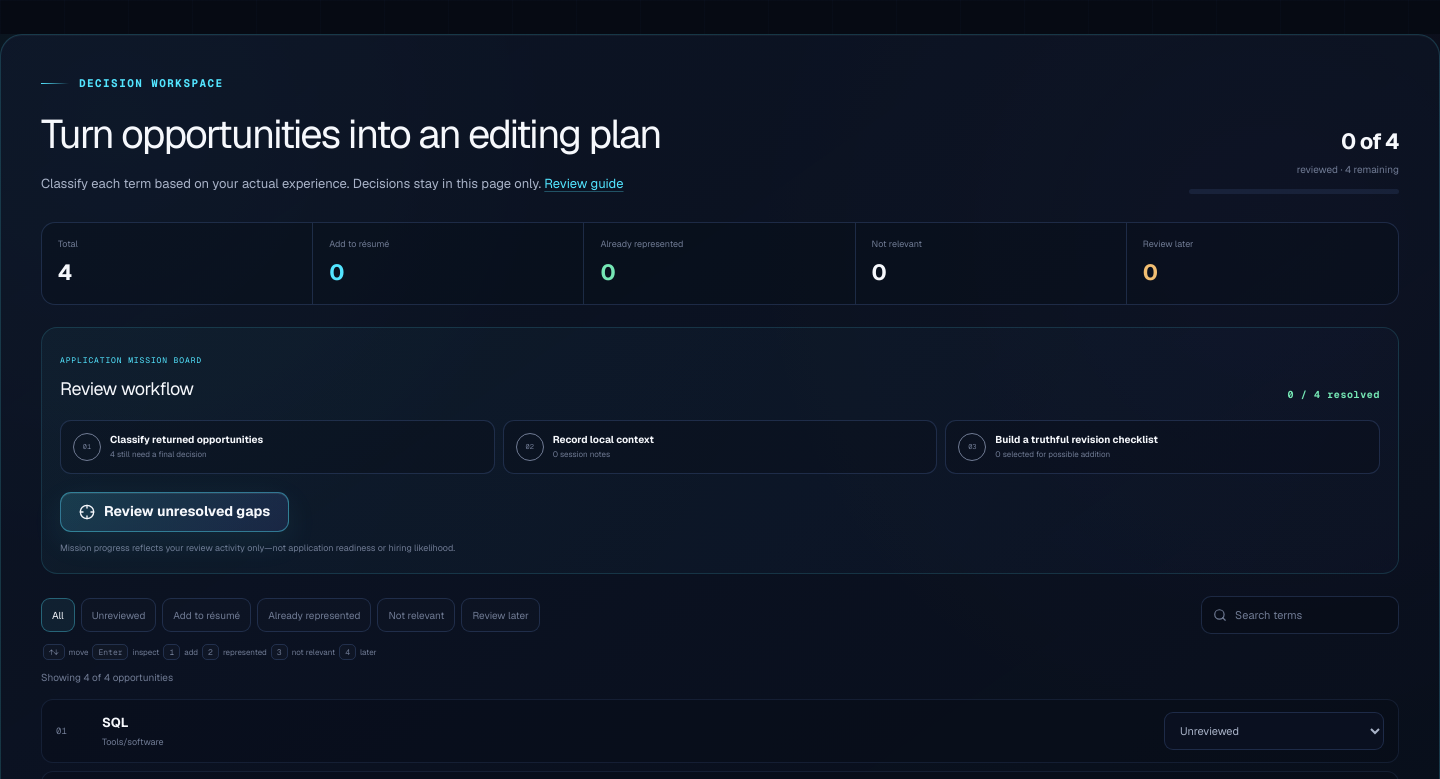
ReviewWorkspace › filters and searches without changing engine order
The width and height of the screenshot is (1440, 779).
Select "Add to résumé" in the dropdown named "Review status for SQL" in the row of "SQL": (1274, 731) [1164,712,1384,750]
(page scrolled)
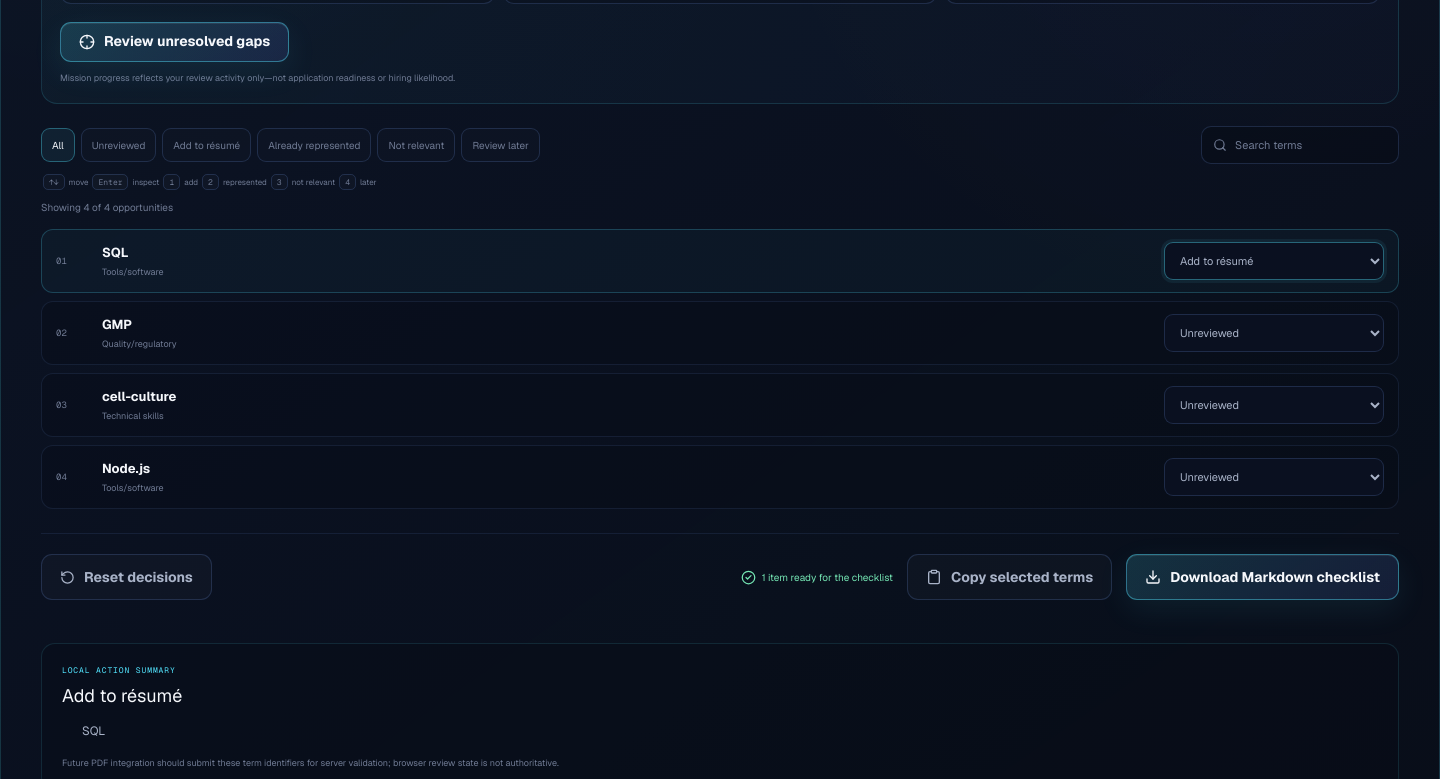
Select "Add to résumé" in the dropdown named "Review status for cell-culture" in the row of "cell-culture": (1274, 405) [1164,386,1384,424]
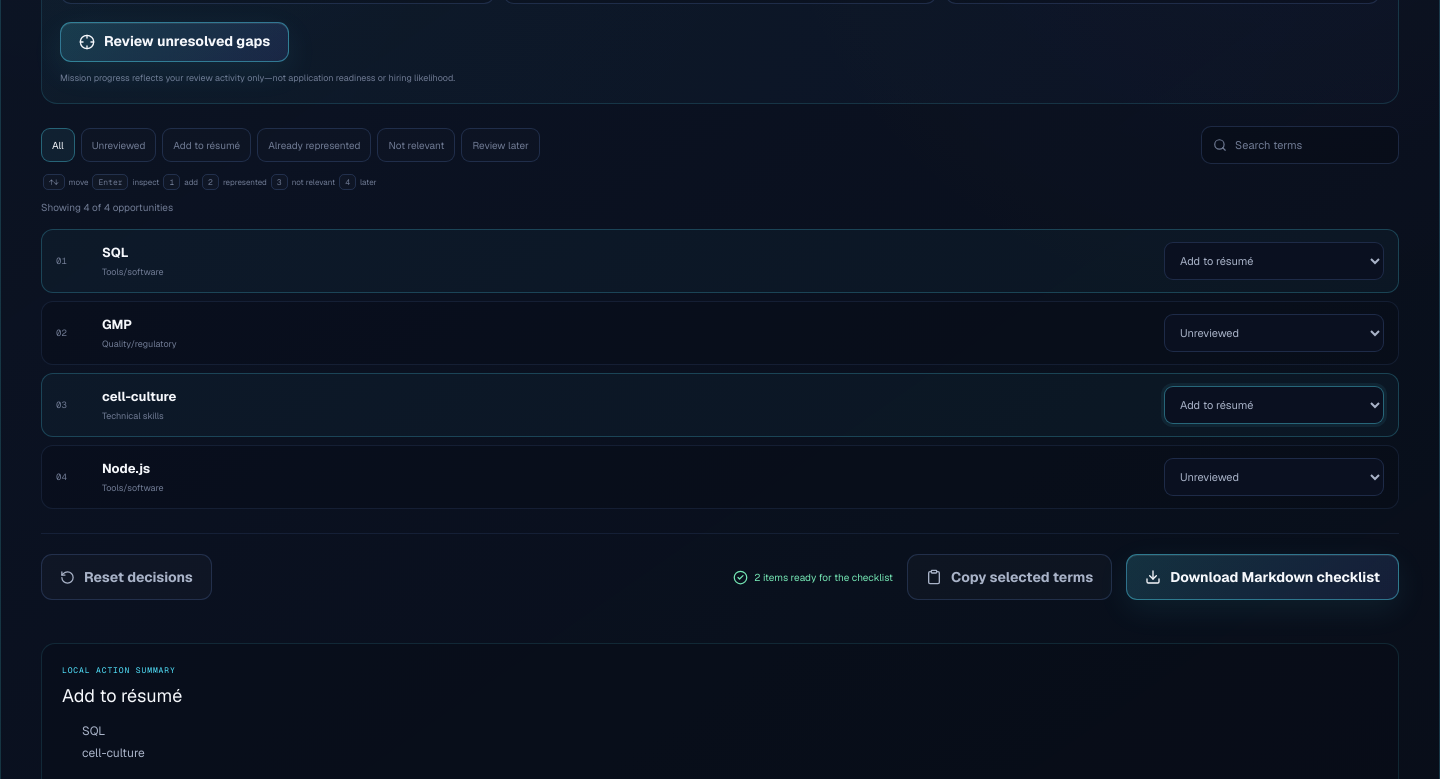
Click the radio button labelled "Add to résumé": (207, 145) [162,128,251,162]
(page scrolled)
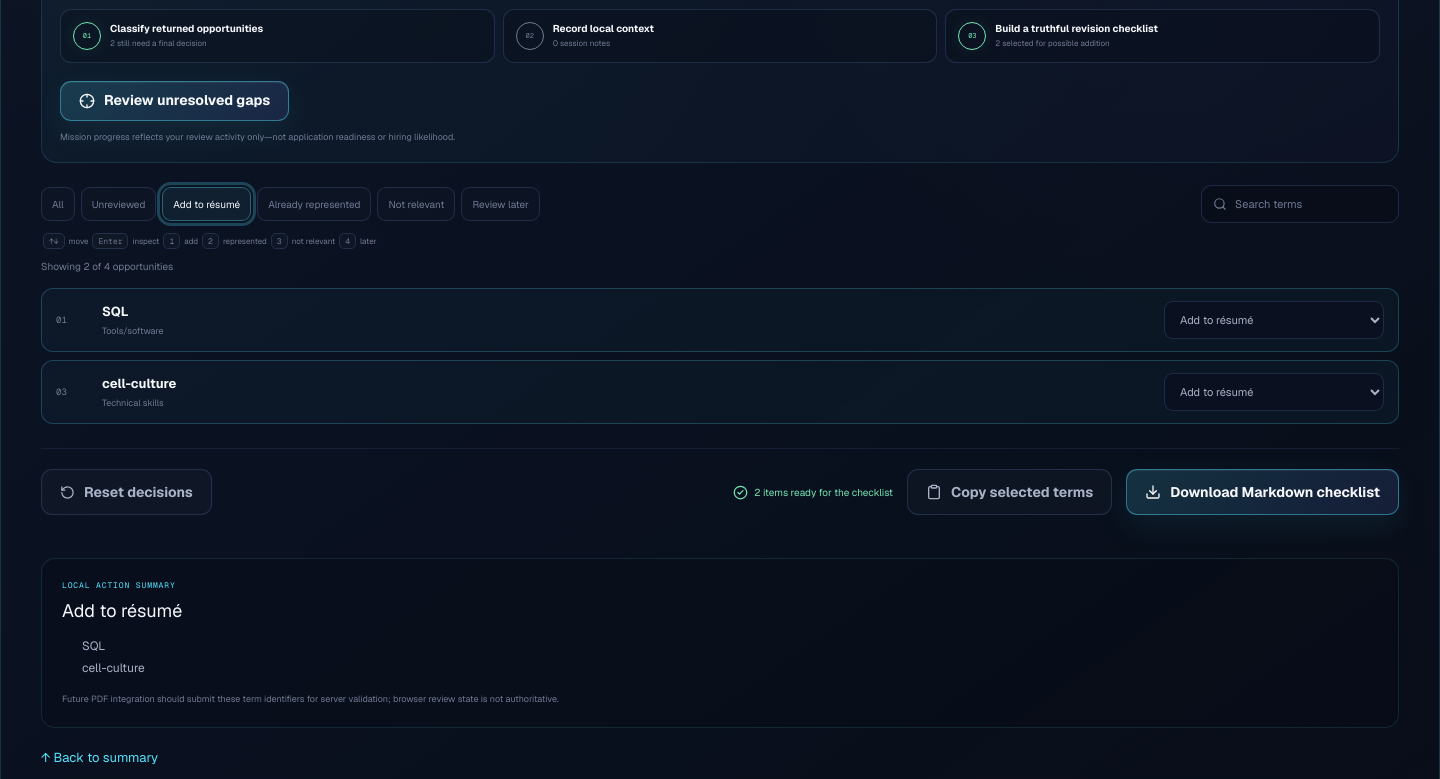
Expected: the element showing "01 SQL Tools/software" is shown, [41,288,1399,352]
Expected: the element showing "03 cell-culture Technical skills" is shown, [41,360,1399,424]
In the field with placeholder "Search terms": (1311, 204) [1235,196,1387,212], type "cell"
(page scrolled)
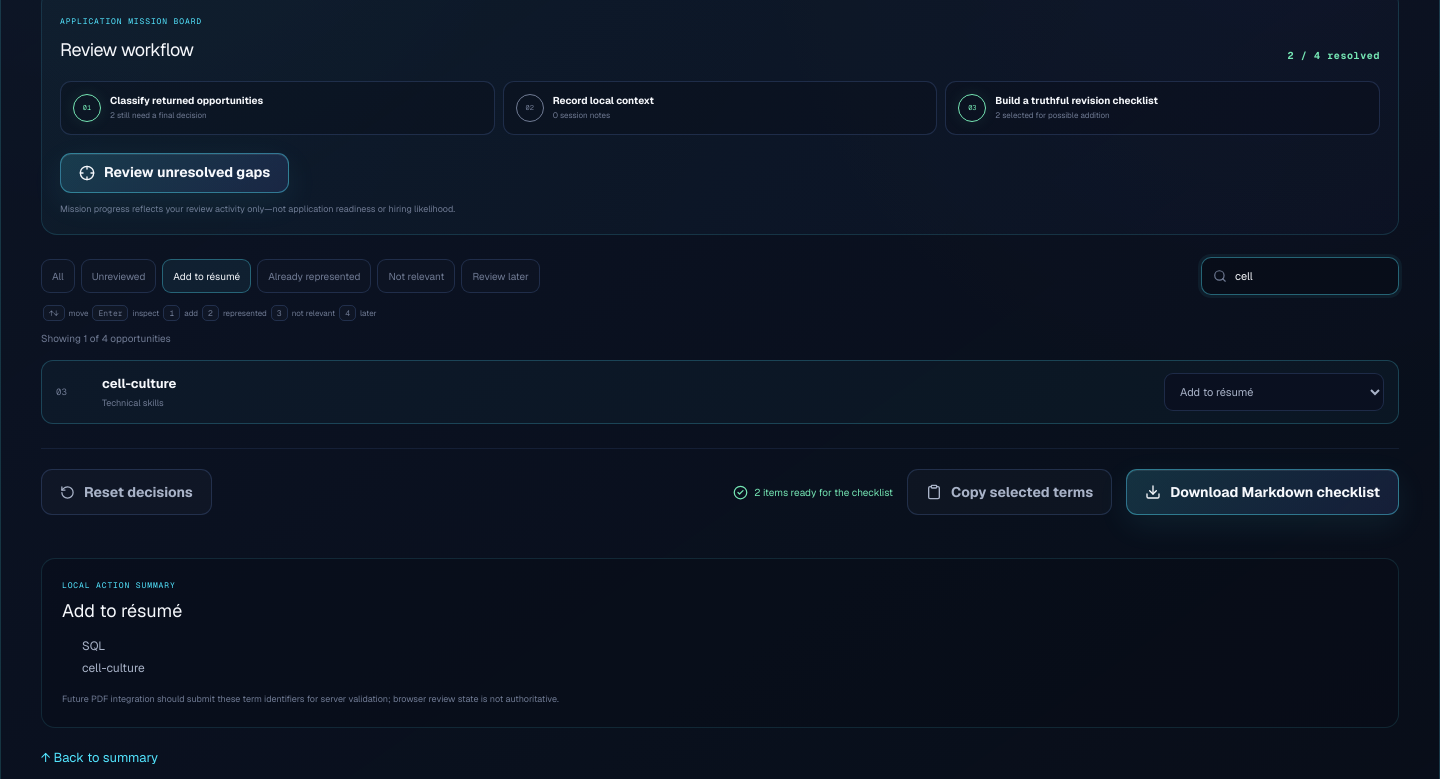
Expected: the text "cell-culture" is shown, [102,375,176,392]
Click the radio button labelled "Unreviewed": (118, 276) [81,259,156,293]
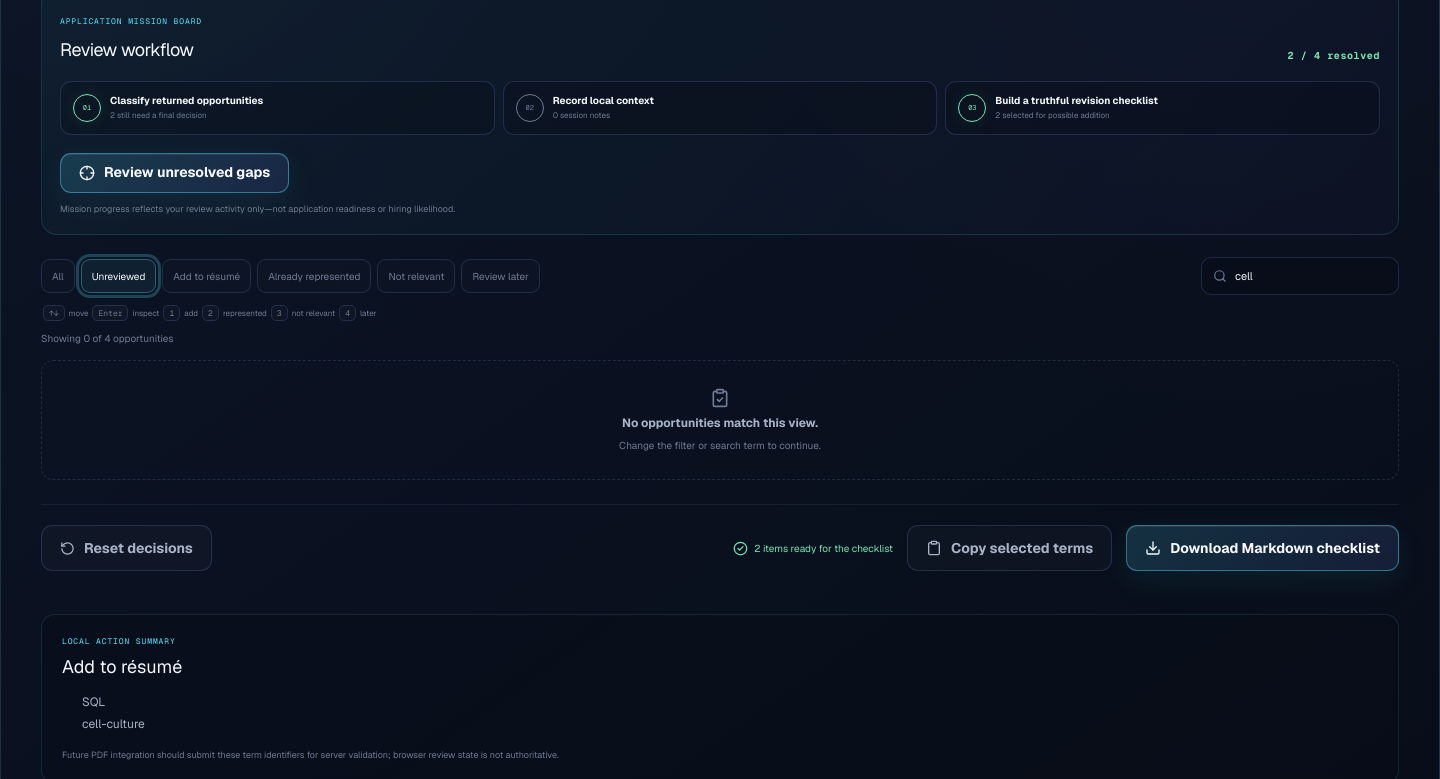
Expected: the text "No opportunities match this view." is shown, [622,414,818,432]
